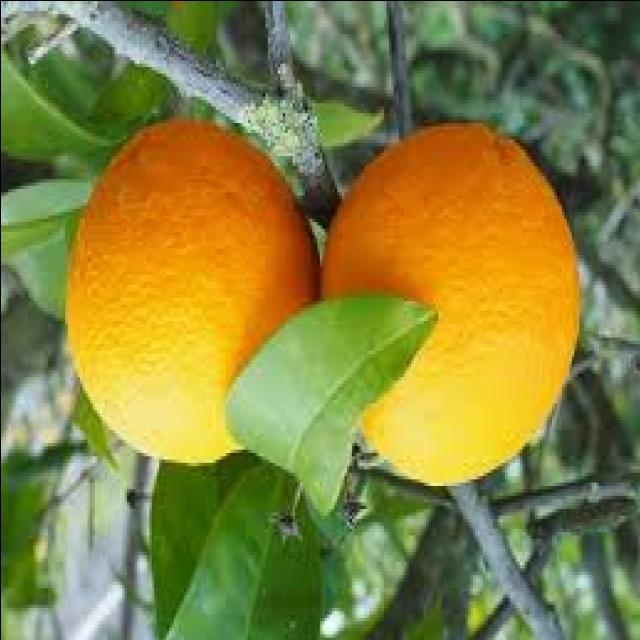orange: (304, 126, 582, 488)
